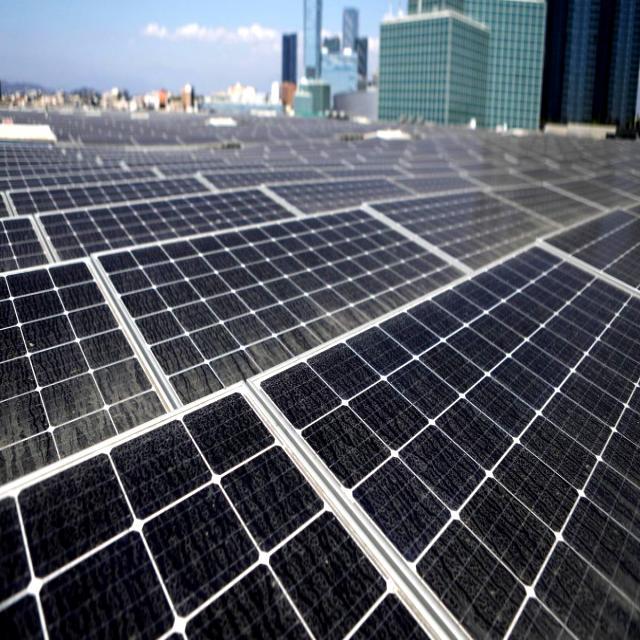dust: (327, 370, 454, 527), (0, 436, 176, 544), (496, 277, 604, 441), (476, 494, 558, 640), (0, 310, 92, 439), (0, 566, 158, 640), (570, 529, 640, 640), (283, 547, 362, 640), (162, 292, 226, 386), (257, 261, 320, 346), (240, 479, 314, 547), (186, 547, 230, 640), (192, 410, 262, 468), (100, 342, 140, 429), (458, 198, 510, 252), (340, 264, 392, 314)
